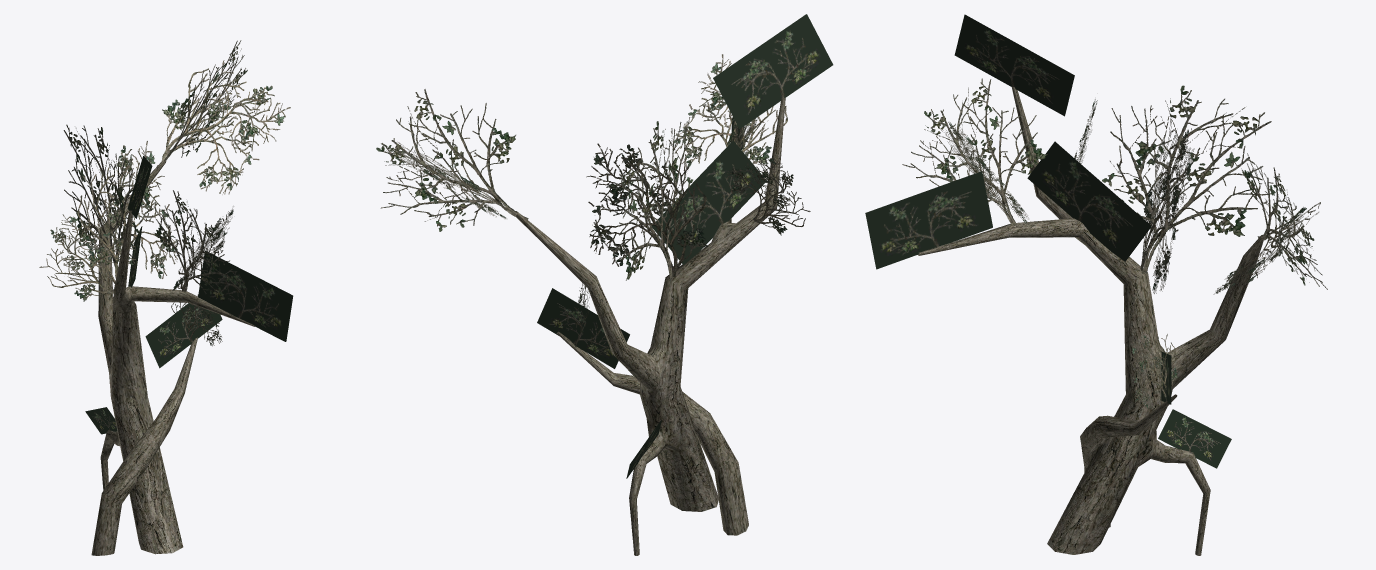
The model's file is mtns_shrb_gnarled_a2_l0.fbx.
3 renders of one model, left to right at view 1: azimuth 30°, elevation 25°; view 2: azimuth 150°, elevation 25°; view 3: azimuth 270°, elevation 25°, orthographic. The views are drawn at different scales.
Parts seen in each view (by area): view 1: mesh_node; view 2: mesh_node; view 3: mesh_node.
Part boxes in pixels (bbox=[...]): mesh_node: bbox=[39, 40, 293, 555]; mesh_node: bbox=[376, 14, 833, 555]; mesh_node: bbox=[865, 14, 1327, 555].
Bounding box in the file's own units: 6.92 × 8.07 × 7.07.
